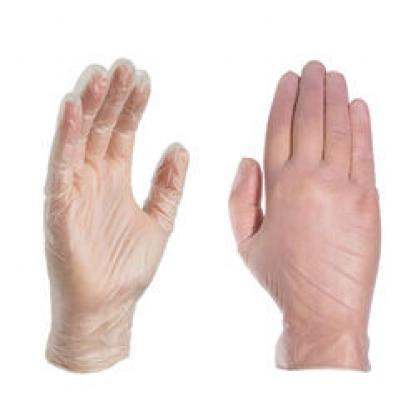with_gloves: (227, 56, 398, 370), (44, 41, 189, 375)
